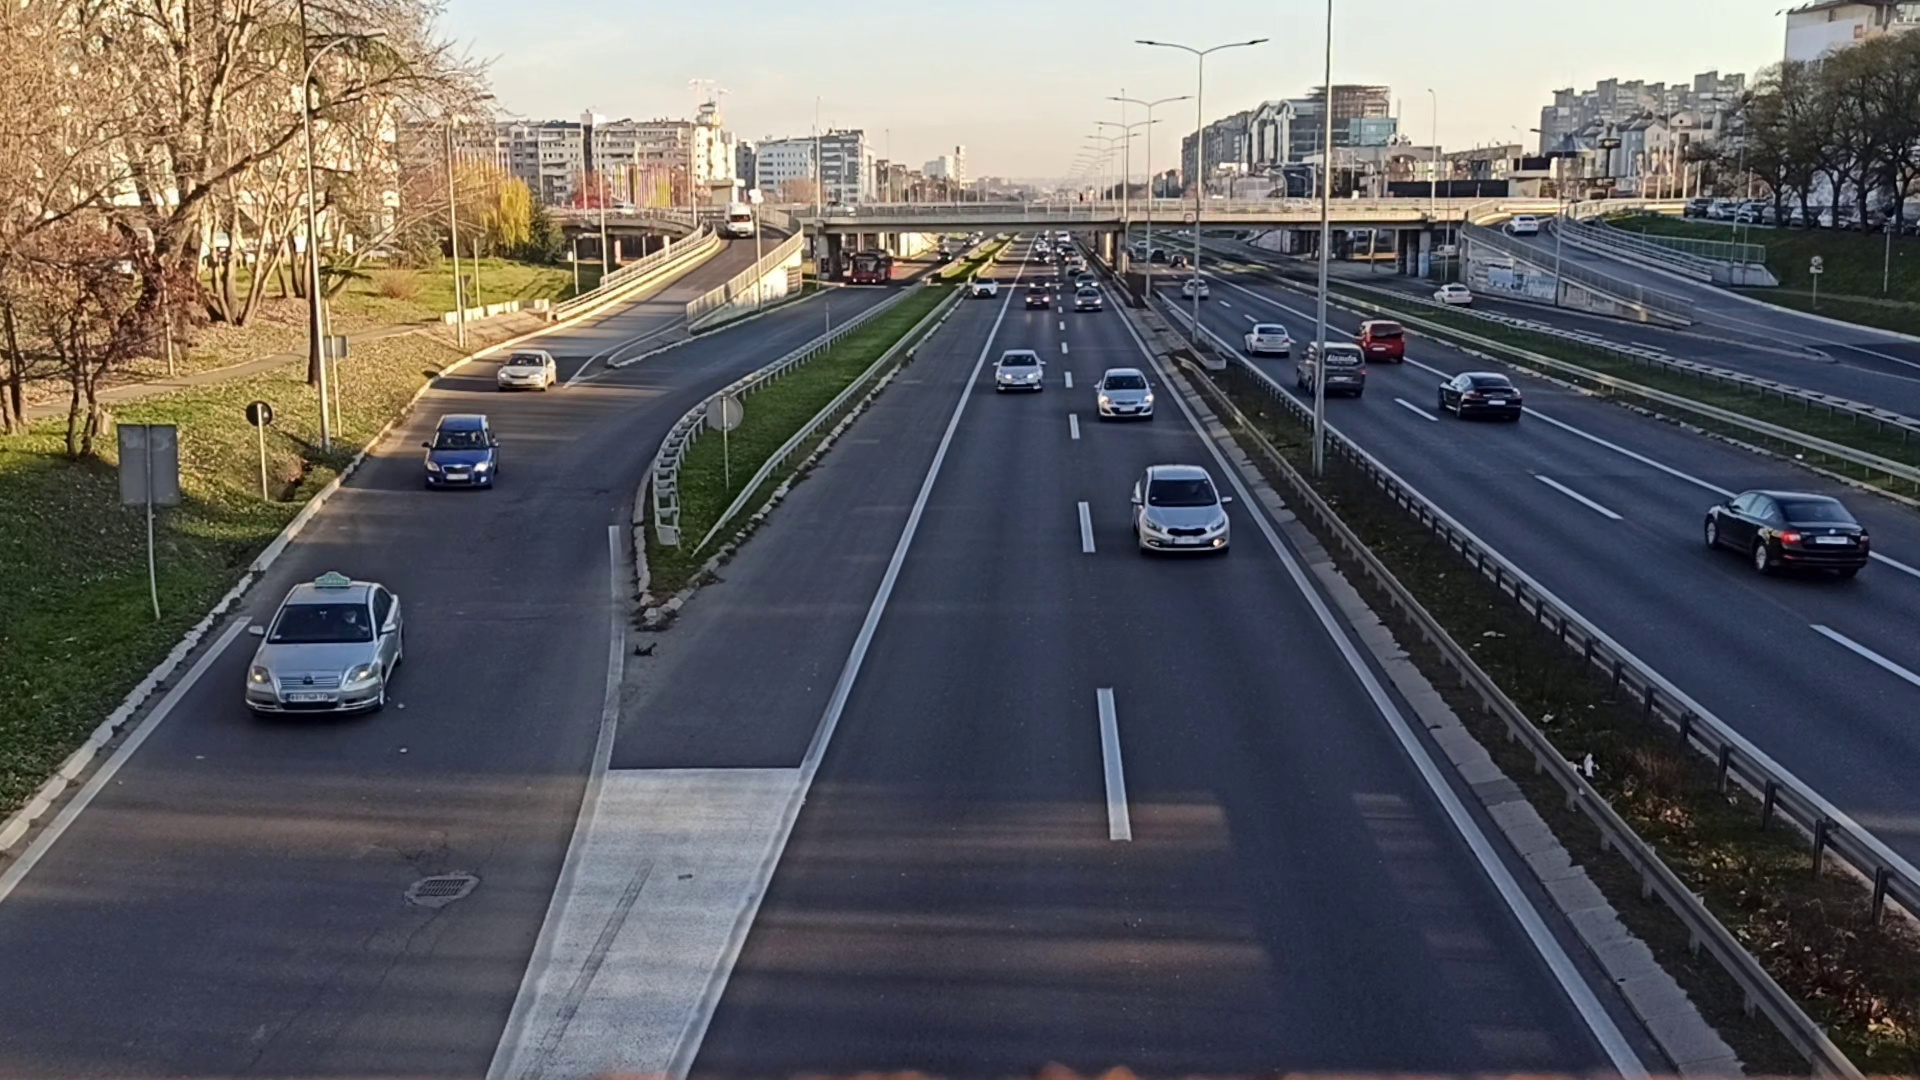car: (243, 579, 407, 713), (1702, 488, 1869, 580), (1129, 459, 1233, 555), (422, 409, 497, 491), (1440, 367, 1520, 425), (1299, 344, 1365, 400), (1095, 365, 1155, 423), (1352, 320, 1410, 367), (498, 347, 555, 390), (996, 349, 1047, 396), (1242, 322, 1292, 356)
